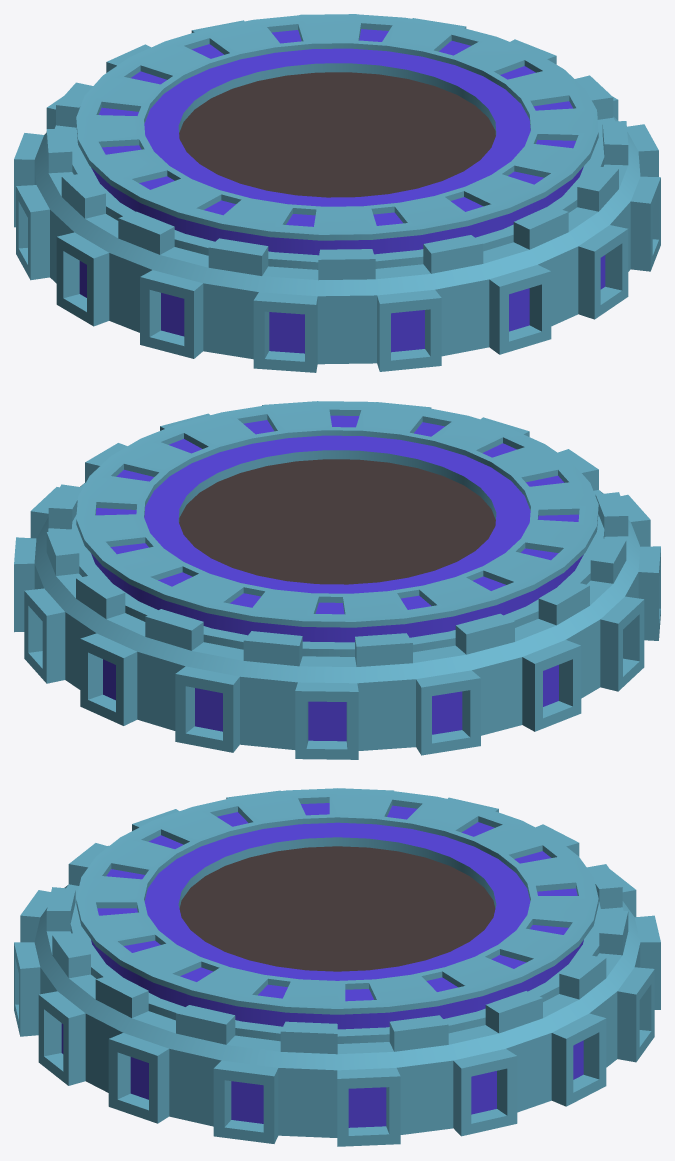
Rendered from Teleporter_Gamejam (1).fbx.
3 renders of one model, top to bottom at view 1: azimuth 30°, elevation 25°; view 2: azimuth 150°, elevation 25°; view 3: azimuth 270°, elevation 25°, orthographic.
Parts seen in each view (by area): view 1: Cylinder; view 2: Cylinder; view 3: Cylinder.
Part boxes in pixels (bbox=[...]): Cylinder: bbox=[14, 14, 660, 372]; Cylinder: bbox=[14, 401, 660, 759]; Cylinder: bbox=[14, 788, 660, 1146].
Size of the model in its own units: 214 by 40.58 by 214.
